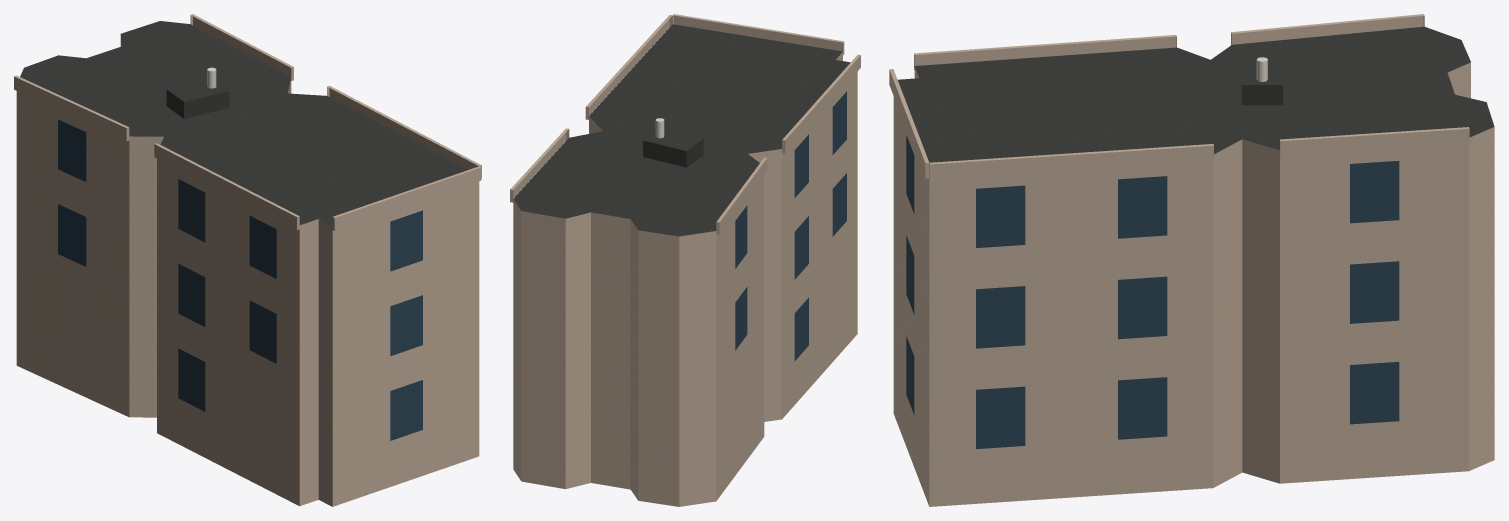
3 views of the same model, side by side, from view 1: azimuth 30°, elevation 25°; view 2: azimuth 150°, elevation 25°; view 3: azimuth 270°, elevation 25° (orthographic). The views are drawn at different scales.
Parts seen in each view (by area): view 1: Footprint 0 / surface 2, Footprint 0 / surface 1, Inset glazing, Facade bay volumes, Inferred rooftop service enclosure / surface 5, Inferred rooftop service enclosure / surface 3; view 2: Footprint 0 / surface 2, Footprint 0 / surface 1, Facade bay volumes, Inset glazing, Inferred rooftop service enclosure / surface 6, Inferred rooftop service enclosure / surface 3; view 3: Footprint 0 / surface 2, Footprint 0 / surface 1, Inset glazing, Facade bay volumes, Inferred rooftop service enclosure / surface 1, Inferred rooftop service enclosure / surface 3.
Part boxes in pixels (x1=…): Footprint 0 / surface 2: x1=16, y1=35, x2=479, y2=506; Footprint 0 / surface 1: x1=20, y1=21, x2=467, y2=225; Inset glazing: x1=58, y1=119, x2=422, y2=440; Facade bay volumes: x1=14, y1=14, x2=481, y2=230; Inferred rooftop service enclosure / surface 5: x1=184, y1=91, x2=229, y2=118; Inferred rooftop service enclosure / surface 3: x1=167, y1=79, x2=228, y2=101; Footprint 0 / surface 2: x1=513, y1=52, x2=857, y2=506; Footprint 0 / surface 1: x1=513, y1=24, x2=850, y2=236; Facade bay volumes: x1=510, y1=14, x2=860, y2=234; Inset glazing: x1=735, y1=91, x2=846, y2=360; Inferred rooftop service enclosure / surface 6: x1=643, y1=140, x2=686, y2=167; Inferred rooftop service enclosure / surface 3: x1=643, y1=129, x2=702, y2=150; Footprint 0 / surface 2: x1=893, y1=62, x2=1494, y2=506; Footprint 0 / surface 1: x1=898, y1=26, x2=1494, y2=162; Inset glazing: x1=906, y1=135, x2=1399, y2=449; Facade bay volumes: x1=889, y1=14, x2=1469, y2=179; Inferred rooftop service enclosure / surface 1: x1=1241, y1=85, x2=1282, y2=105; Inferred rooftop service enclosure / surface 3: x1=1241, y1=58, x2=1282, y2=84.
Bounding box in the file's own units: 10.33 × 11.97 × 17.55.
